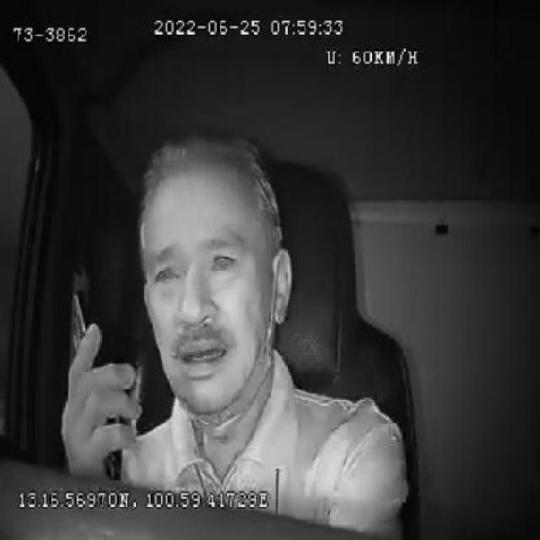phone: (66, 285, 124, 482)
